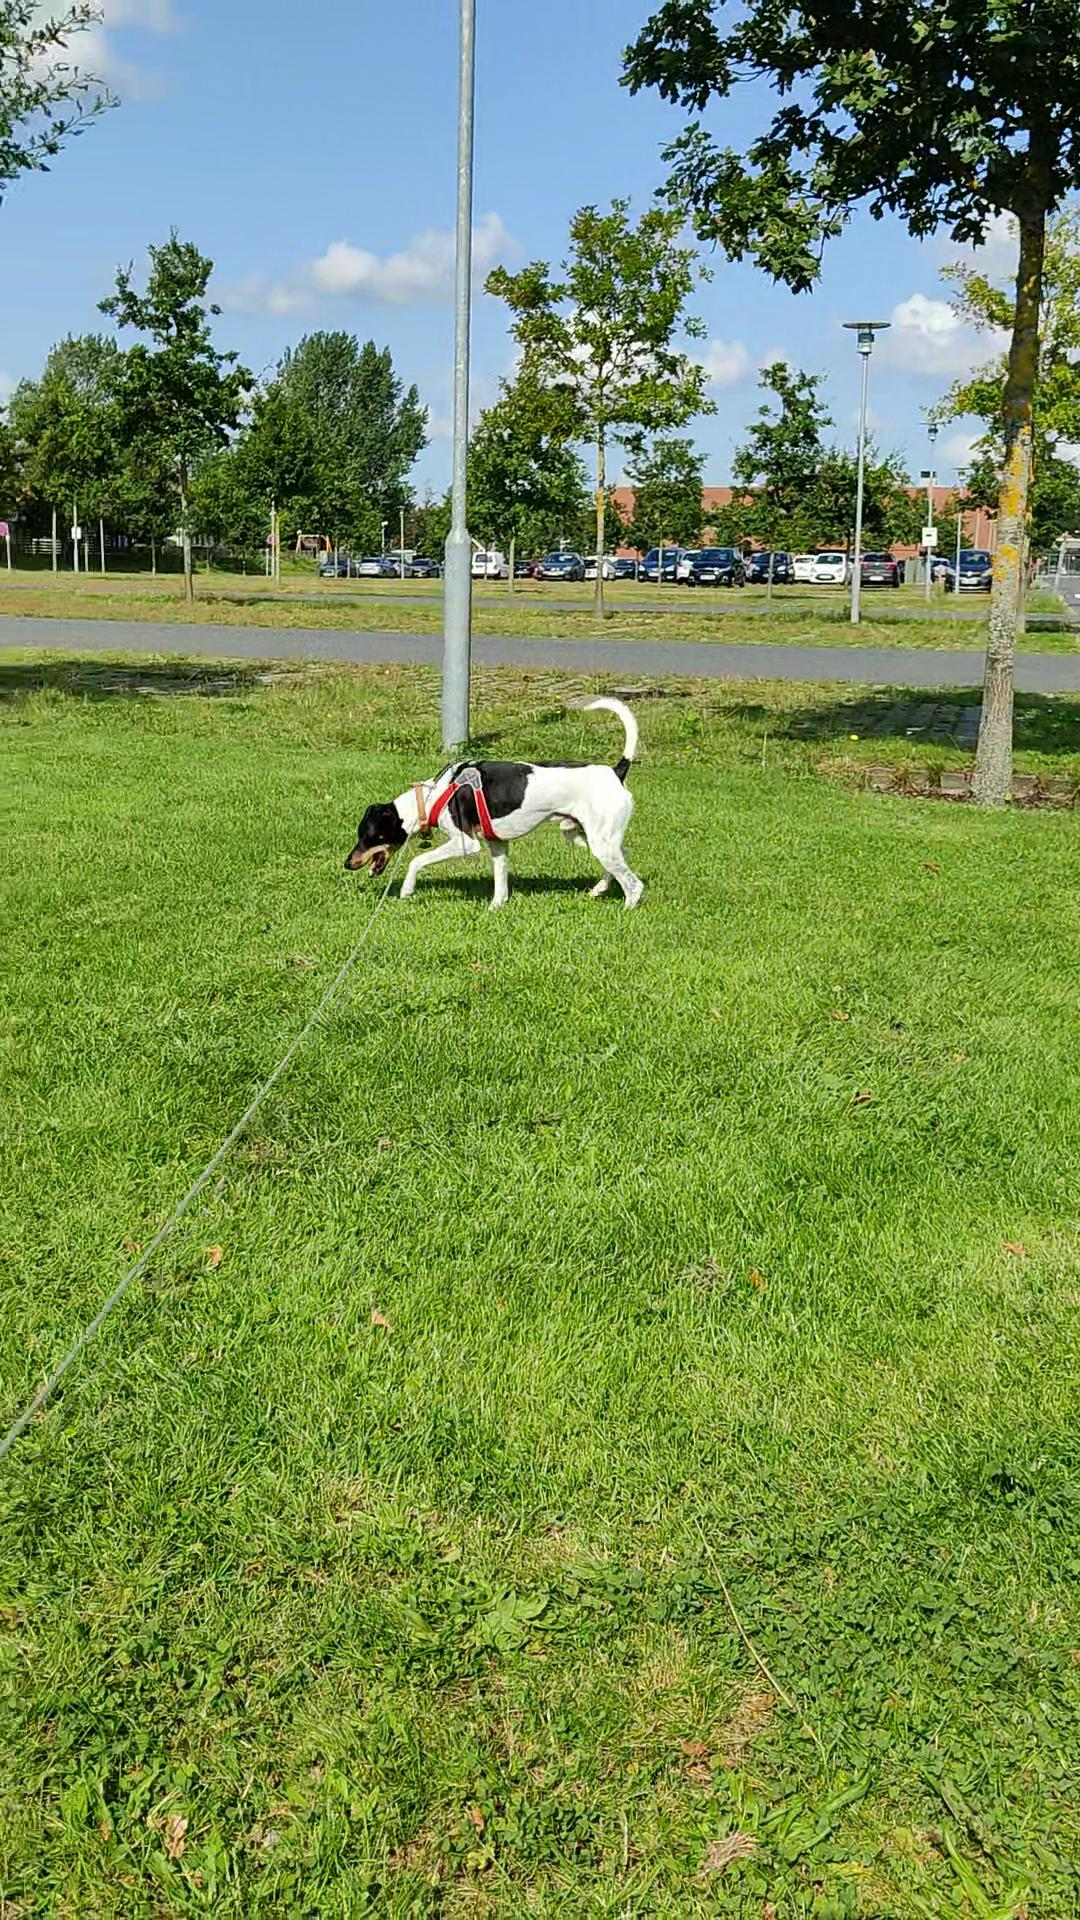Dog: (336, 688, 659, 913)
